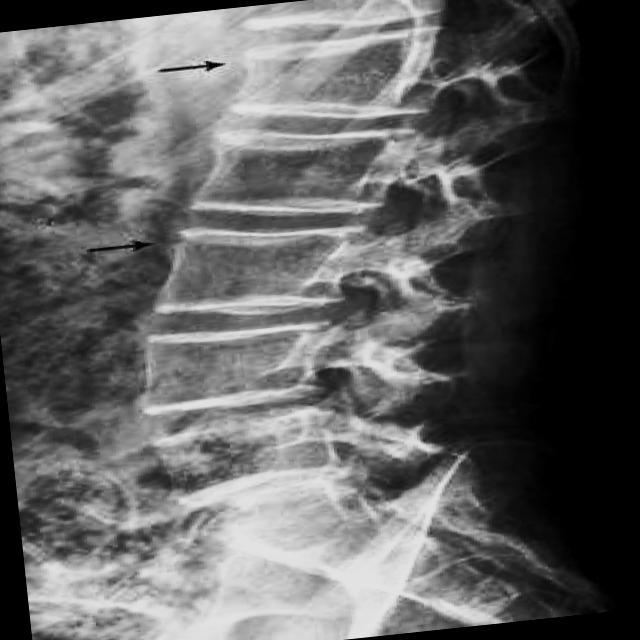Compression-Crush Fracutre: (154, 224, 356, 318), (231, 53, 425, 117)
